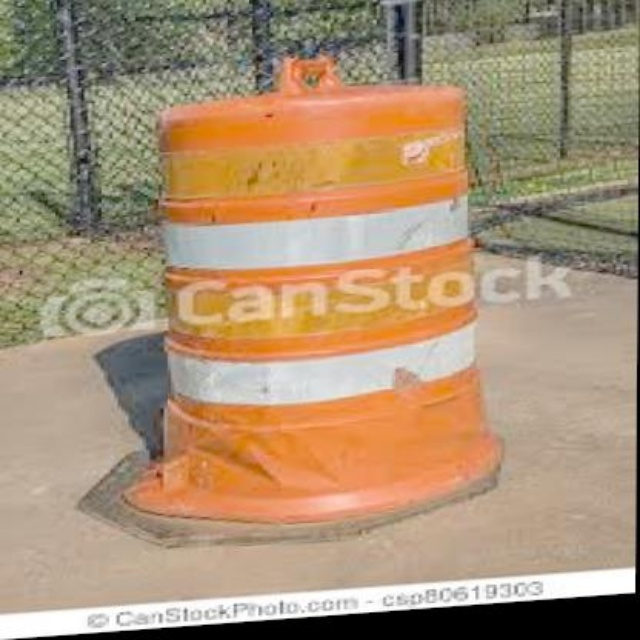obstacle: (132, 69, 515, 532)
